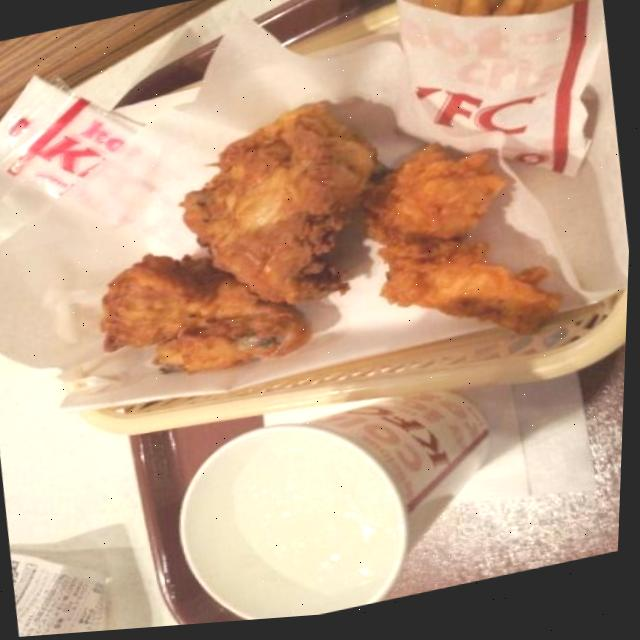炸货点心: (385, 0, 605, 56)
